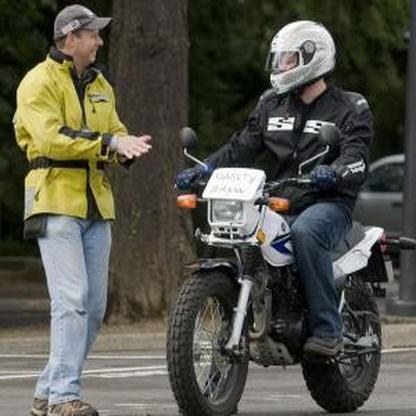target: (164, 19, 404, 414)
